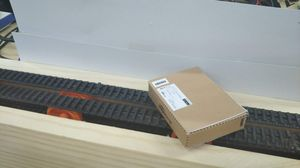box2: (147, 64, 247, 149)
